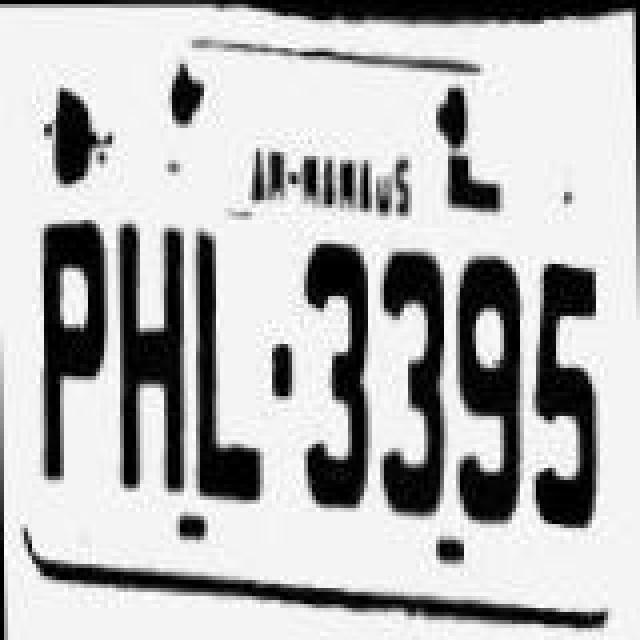3: (290, 228, 378, 548), (372, 236, 456, 528)
5: (524, 256, 624, 548)
9: (444, 250, 536, 526)
H: (110, 206, 194, 514)
L: (190, 226, 274, 510)
P: (26, 214, 118, 490)
